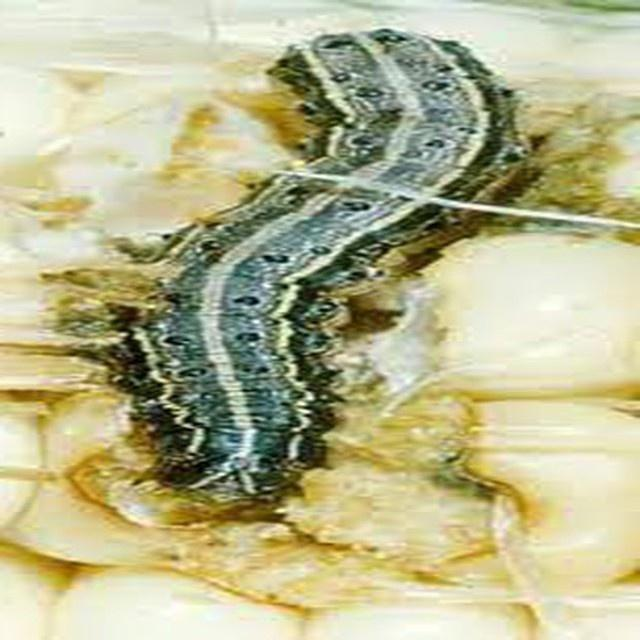gusano_cogollero: (48, 31, 534, 512)
